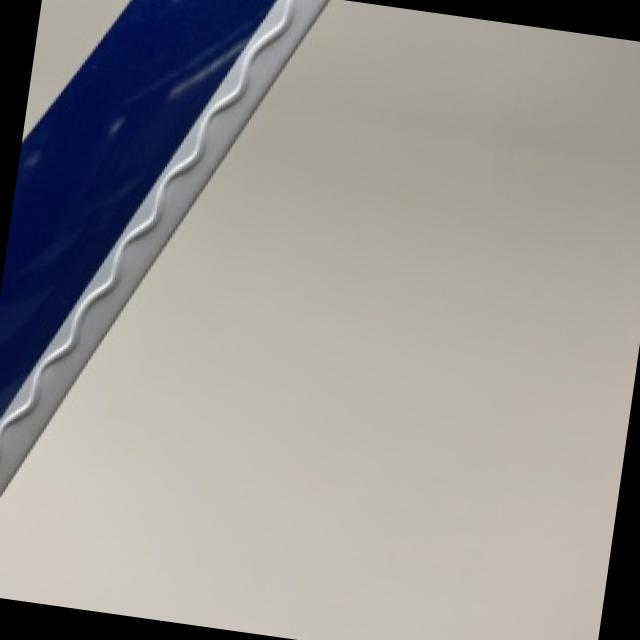healthy: (0, 0, 328, 497)
